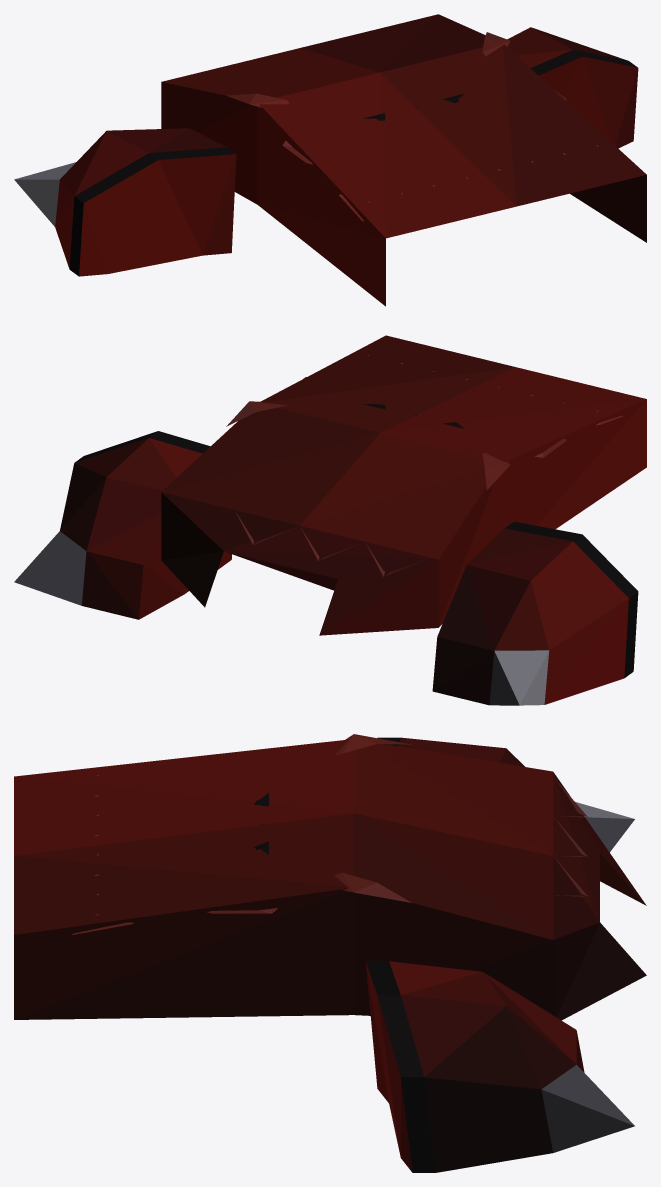
File: dragon-chainbody.obj
3 renders of one model, top to bottom at view 1: azimuth 30°, elevation 25°; view 2: azimuth 150°, elevation 25°; view 3: azimuth 270°, elevation 25°, orthographic. The views are drawn at different scales.
Visible parts, largest first — view 1: Item Dragon chainbody 2026-09-24_18-23-39; view 2: Item Dragon chainbody 2026-09-24_18-23-39; view 3: Item Dragon chainbody 2026-09-24_18-23-39.
Boxes of the visible parts, <box> form: Item Dragon chainbody 2026-09-24_18-23-39: <box>14,14,646,306</box>; Item Dragon chainbody 2026-09-24_18-23-39: <box>14,335,646,705</box>; Item Dragon chainbody 2026-09-24_18-23-39: <box>14,734,646,1172</box>.
Bounding box in the file's own units: 68 × 18 × 54.
